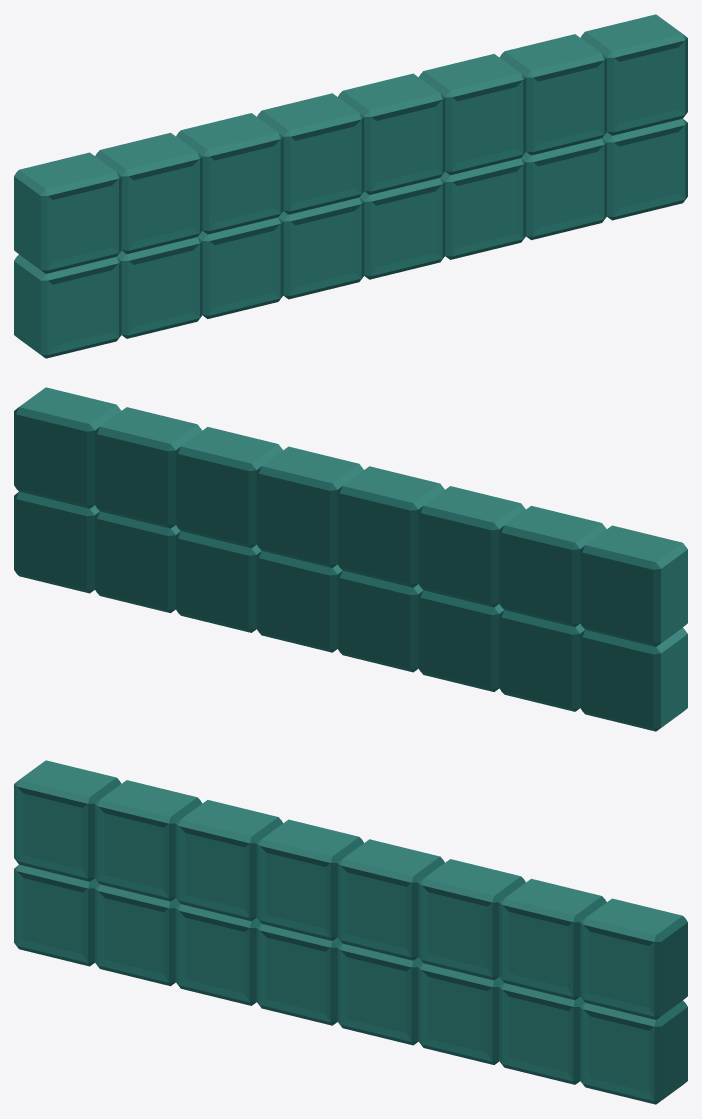
The model's file is Terrain_Block8x2.gltf.
The picture shows the model from 3 angles, top to bottom: view 1: azimuth 30°, elevation 25°; view 2: azimuth 150°, elevation 25°; view 3: azimuth 330°, elevation 25°; orthographic projection.
Parts seen in each view (by area): view 1: Terrain_Block8x2_baked; view 2: Terrain_Block8x2_baked; view 3: Terrain_Block8x2_baked.
Boxes of the visible parts, box(x1,y1,x2,y2) form: Terrain_Block8x2_baked: box(14, 14, 687, 358); Terrain_Block8x2_baked: box(14, 387, 687, 731); Terrain_Block8x2_baked: box(14, 760, 687, 1104).
Size of the model in its own units: 8 by 2 by 0.6822.
